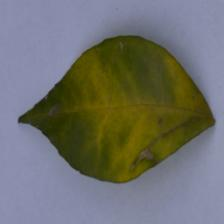greening: (76, 38, 200, 116)
